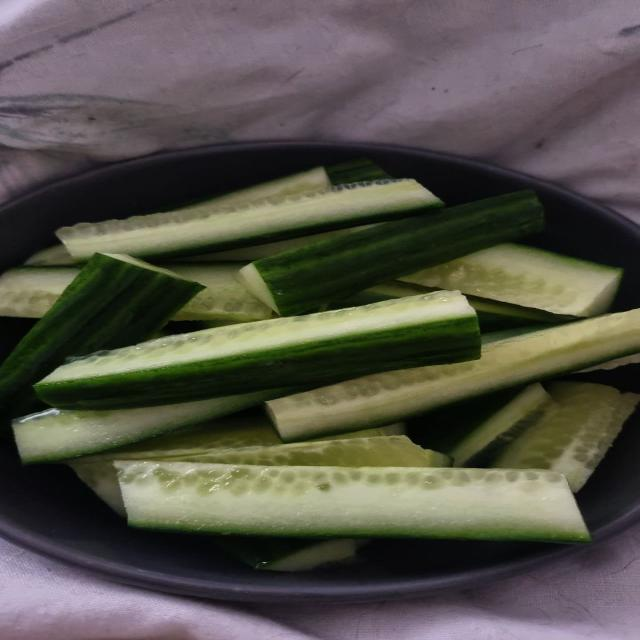cucumber sliced: (36, 291, 479, 408), (268, 310, 639, 441), (114, 461, 590, 541), (240, 191, 543, 315), (0, 254, 202, 411), (57, 179, 442, 260), (69, 414, 283, 514), (13, 389, 287, 462), (401, 243, 622, 316), (493, 382, 639, 491), (420, 383, 551, 466), (186, 158, 391, 210), (187, 158, 390, 210), (83, 410, 282, 461), (189, 435, 451, 467), (236, 158, 391, 201), (185, 167, 332, 211), (165, 262, 272, 321), (182, 230, 351, 262), (213, 536, 366, 571), (0, 266, 79, 317), (466, 295, 572, 332), (69, 460, 126, 516), (326, 158, 391, 185), (24, 244, 75, 266), (578, 354, 639, 372)
